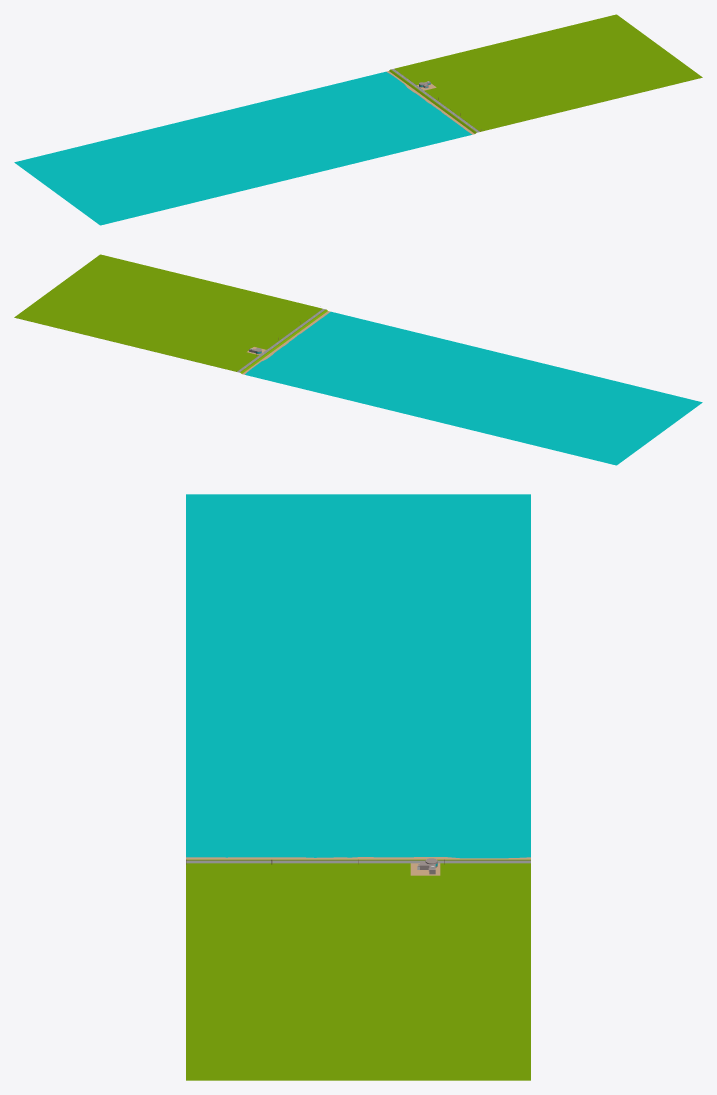
File: searoad04.glb
3 views of the same model, one above another, from view 1: azimuth 30°, elevation 25°; view 2: azimuth 150°, elevation 25°; view 3: azimuth 270°, elevation 25° (orthographic). The views are drawn at different scales.
Visible parts, largest first — view 1: Geom3D (×2); view 2: Geom3D (×2); view 3: Geom3D (×4).
Boxes of the visible parts, x1,y1,x2,y2 form: Geom3D (×2): [14, 14, 702, 225]; Geom3D (×2): [14, 254, 702, 465]; Geom3D (×4): [186, 494, 530, 1080].
Size of the model in its own units: 1.65e+07 by 101511 by 4085865.
11 materials, 4 textured.
